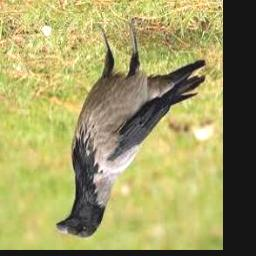Crow: (57, 23, 207, 239)
